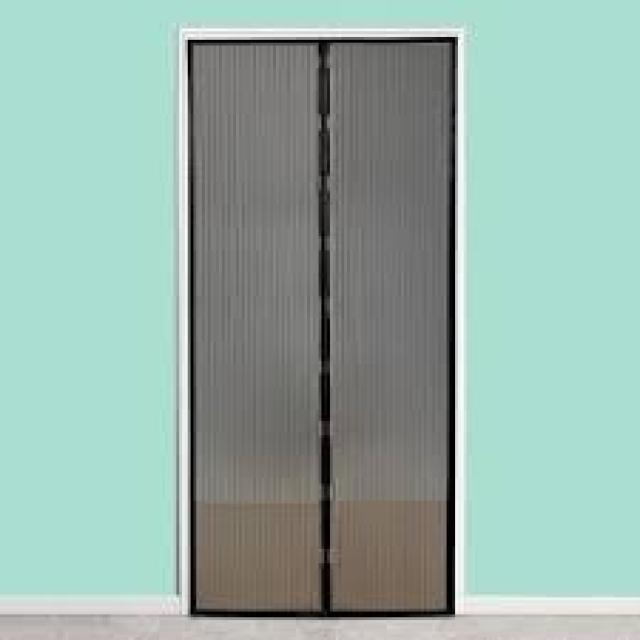door: (185, 28, 458, 618)
